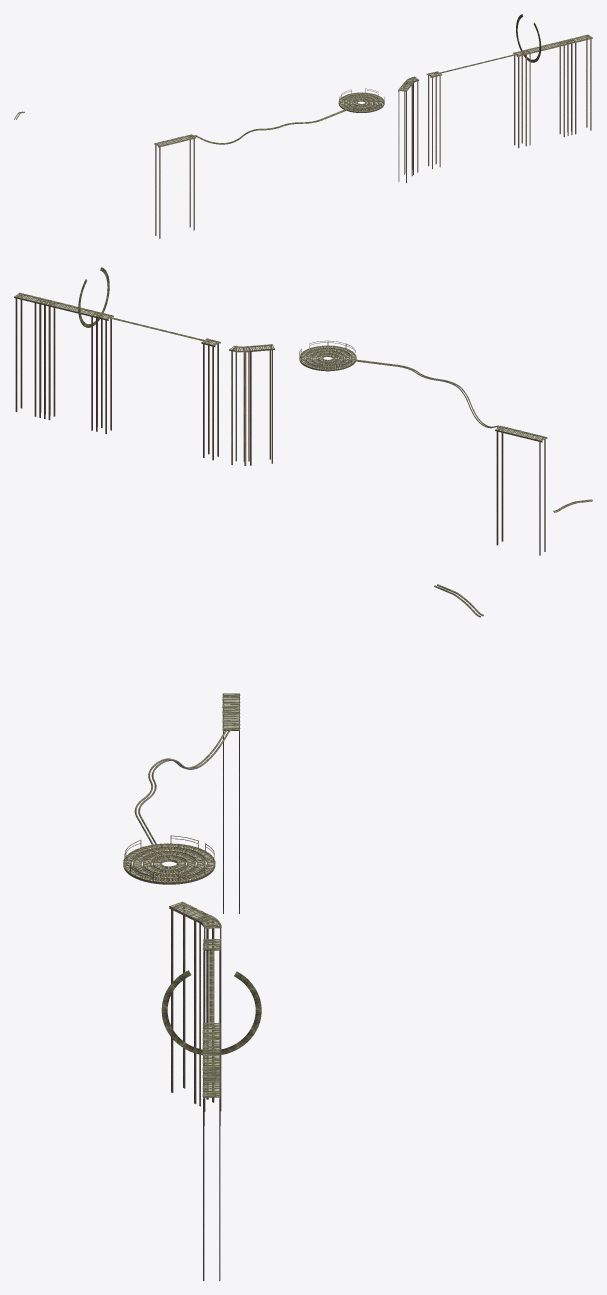
The picture shows the model from 3 angles, top to bottom: view 1: azimuth 30°, elevation 25°; view 2: azimuth 150°, elevation 25°; view 3: azimuth 270°, elevation 25°; orthographic projection. The views are drawn at different scales.
Visible parts, largest first — view 1: Ramp.016, Ramp.003, Ramp.014, Ramp.002, Ramp.001, Ramp.009, Ramp.012, Ramp.011, Ramp, pipe; view 2: Ramp.016, Ramp.002, Ramp.001, Ramp.014, Ramp.012, Ramp.009, Ramp.011, Ramp.003, Ramp, pipe; view 3: Ramp.014, Ramp.012, Ramp.004, Ramp.011, Ramp.001, Ramp.016.
Boxes of the visible parts, bbox=[...] form: Ramp.016: bbox=[154, 134, 195, 238]; Ramp.003: bbox=[513, 50, 528, 148]; Ramp.014: bbox=[338, 92, 384, 112]; Ramp.002: bbox=[524, 41, 566, 145]; Ramp.001: bbox=[570, 34, 592, 134]; Ramp.009: bbox=[426, 71, 441, 168]; Ramp.012: bbox=[398, 81, 412, 183]; Ramp.011: bbox=[405, 76, 418, 174]; Ramp: bbox=[562, 39, 573, 135]; pipe: bbox=[193, 109, 347, 144]; Ramp.016: bbox=[495, 426, 547, 555]; Ramp.002: bbox=[47, 300, 99, 430]; Ramp.001: bbox=[14, 292, 42, 416]; Ramp.014: bbox=[299, 345, 356, 371]; Ramp.012: bbox=[246, 344, 274, 465]; Ramp.009: bbox=[201, 338, 220, 460]; Ramp.011: bbox=[229, 345, 248, 465]; Ramp.003: bbox=[94, 312, 113, 434]; Ramp: bbox=[37, 298, 51, 418]; pipe: bbox=[355, 359, 500, 428]; Ramp.014: bbox=[123, 843, 215, 884]; Ramp.012: bbox=[169, 901, 209, 1104]; Ramp.004: bbox=[161, 970, 261, 1055]; Ramp.011: bbox=[198, 915, 221, 1111]; Ramp.001: bbox=[202, 1078, 220, 1280]; Ramp.016: bbox=[222, 693, 240, 913].
Size of the model in its own units: 13694 by 3356 by 4113.
